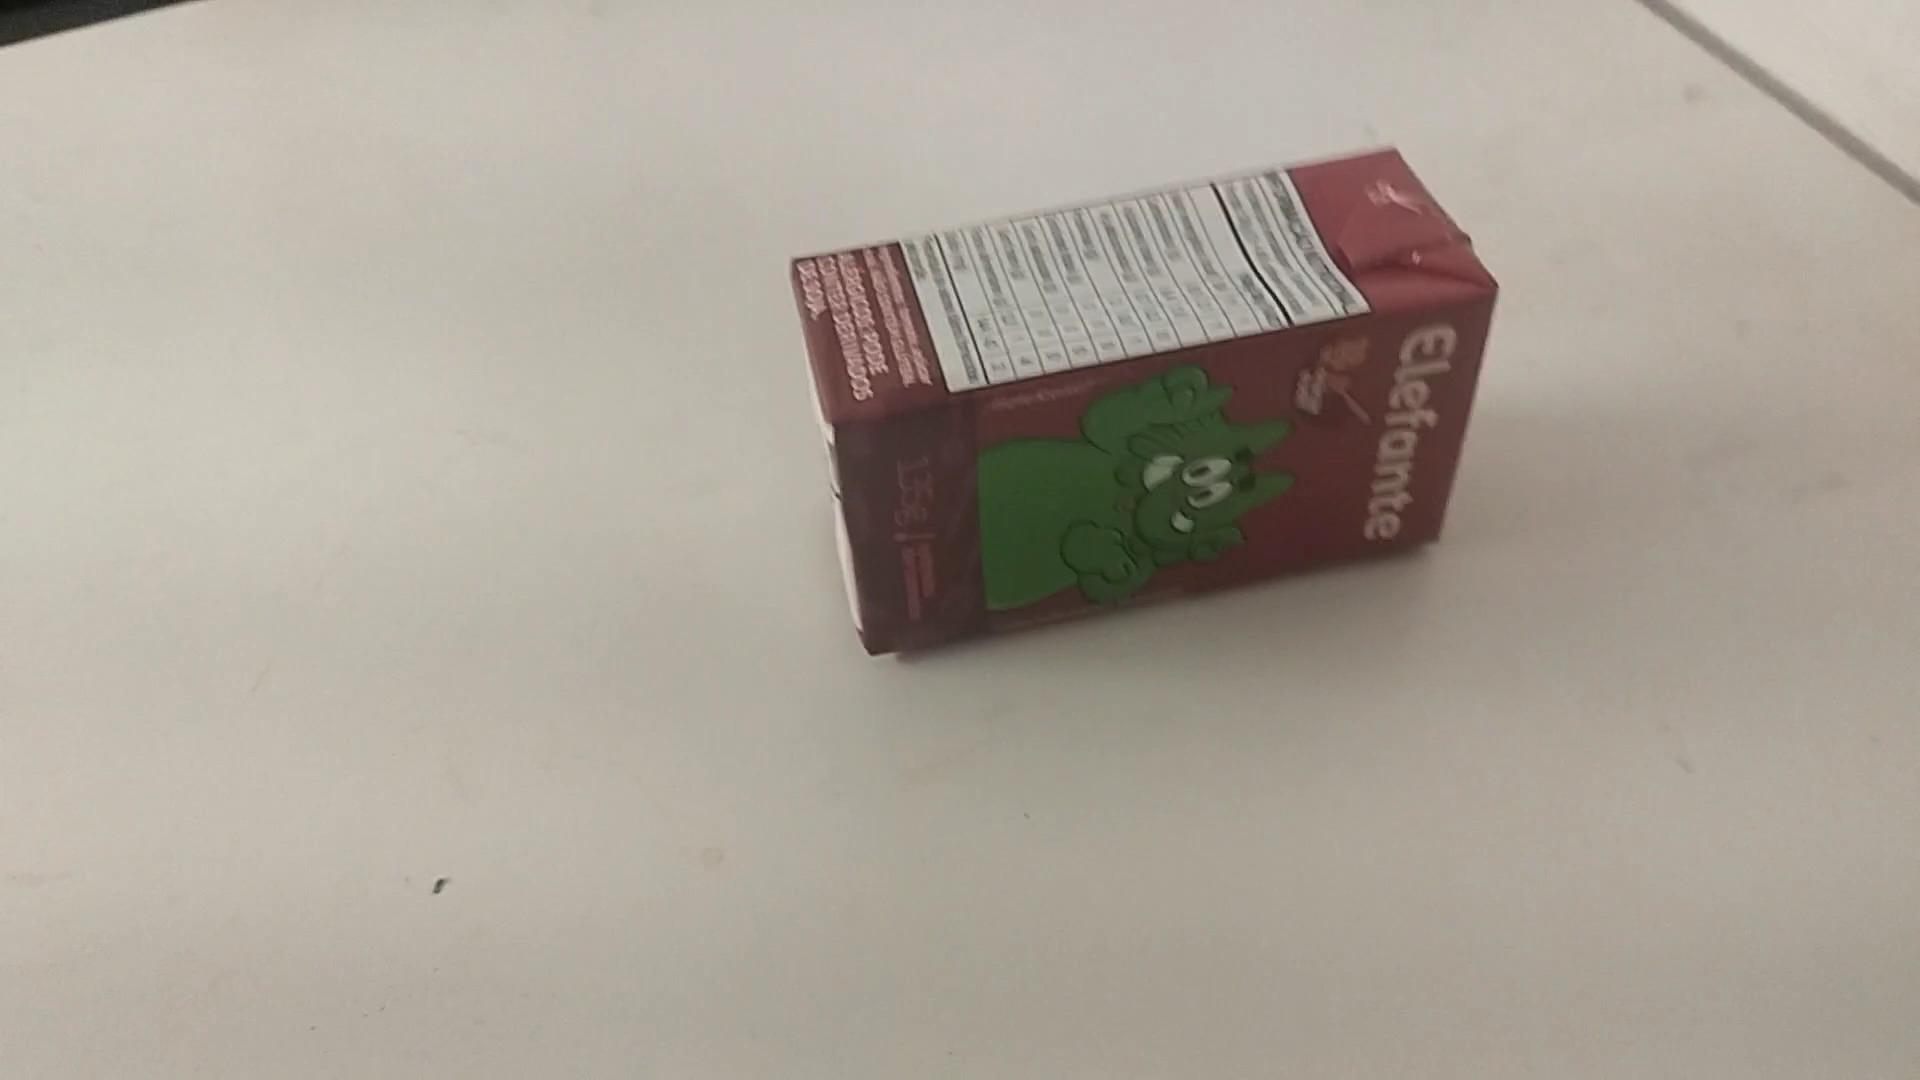tomate: (777, 136, 1494, 667)
